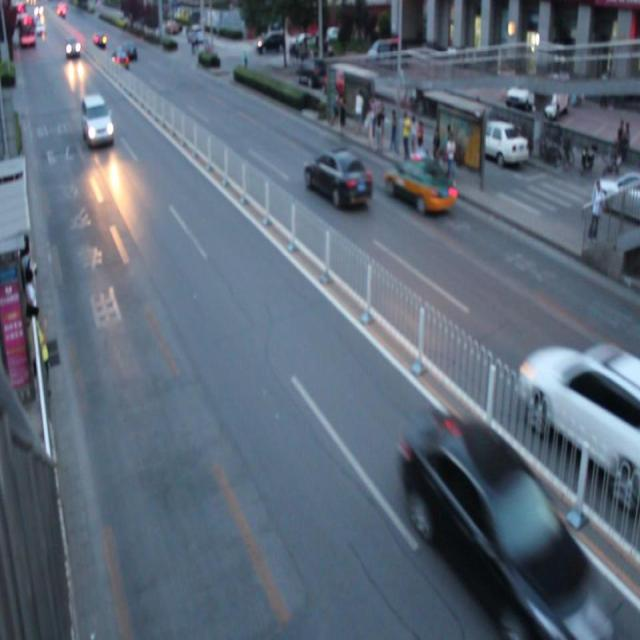car: (397, 404, 588, 640), (514, 339, 640, 489), (383, 152, 457, 216), (303, 146, 371, 210)
truck: (79, 91, 116, 148)
